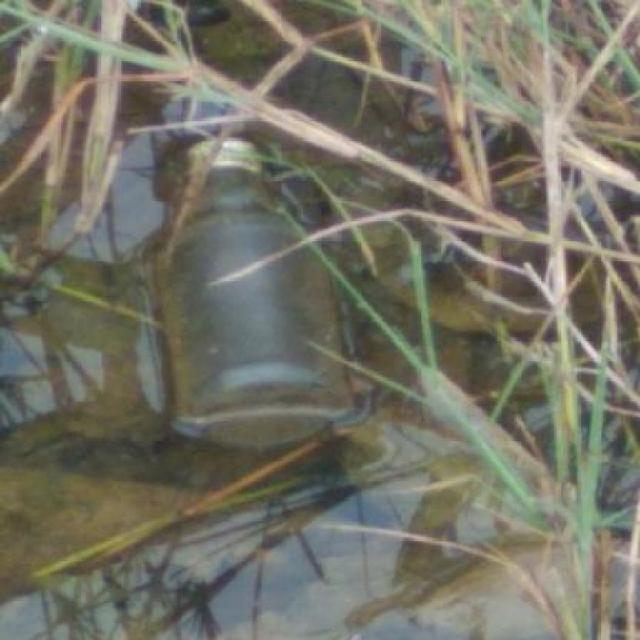garbage: (135, 88, 356, 447)
